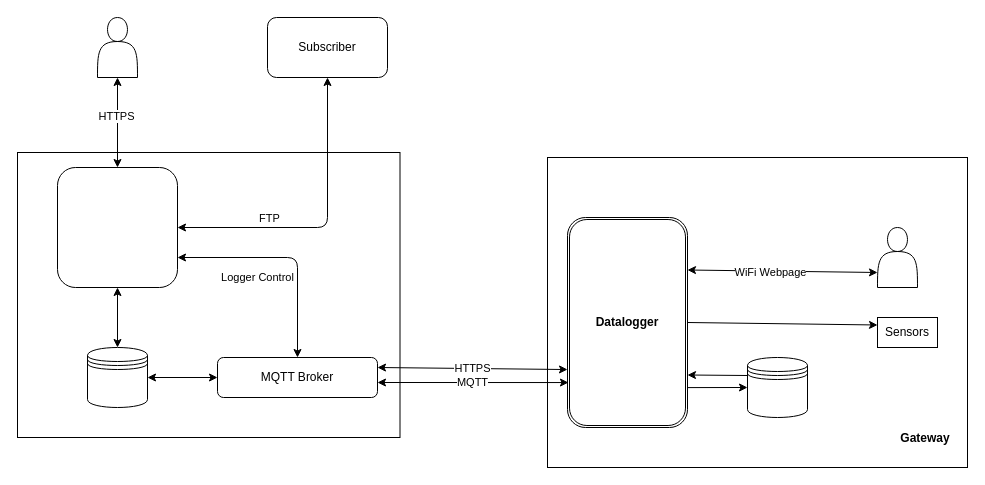
This 985x485 diagram has some shape labels left out. Here are the shapes that lost their labels. From the top down, the centre of each, then its label:
the point at 117,227: Flask
the point at 777,387: DB
